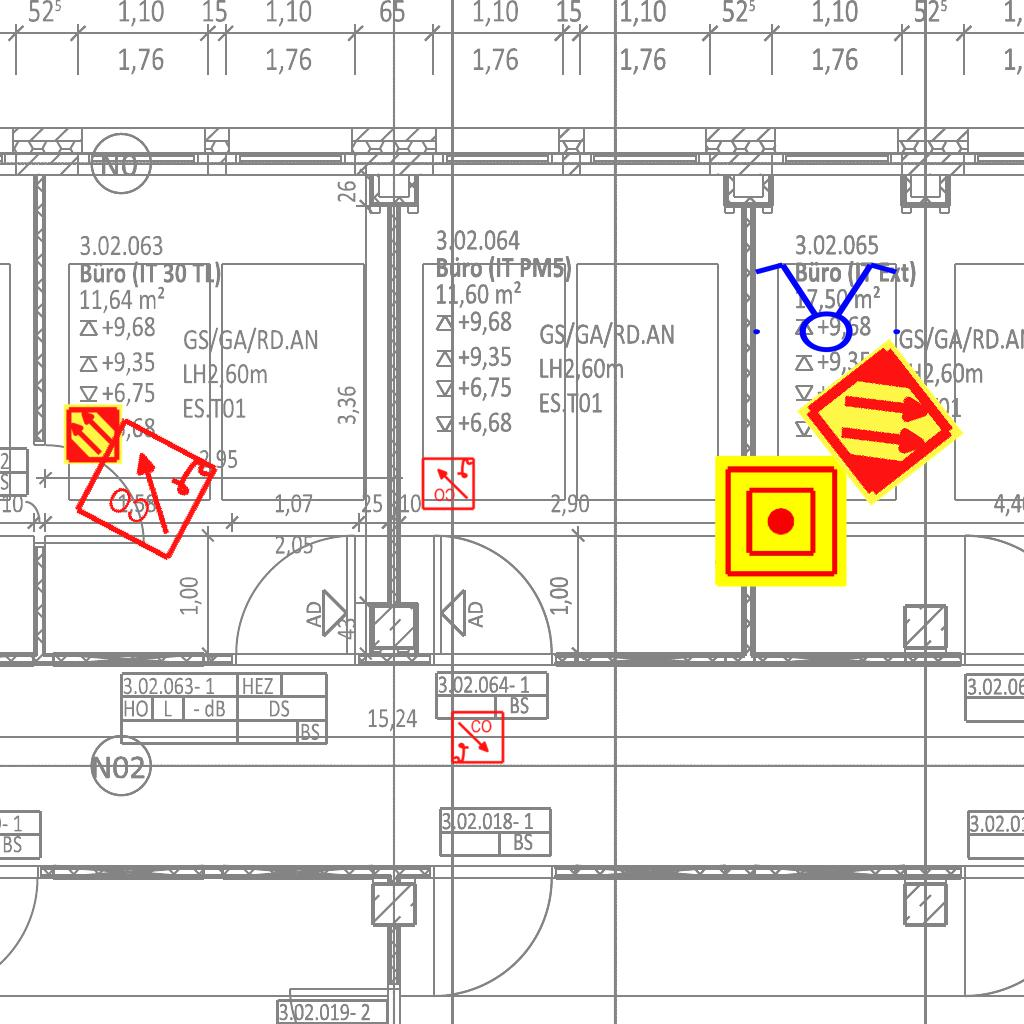ASR_Ansaugrauchmelder: (792, 334, 969, 511), (62, 403, 124, 465)
NAM-Nichtautomatischer_Melder: (715, 455, 847, 587)
ROA_Rauchmelder_optisch_mit_Signalgeber_(Sockelsirene): (70, 411, 223, 564), (420, 455, 476, 511), (450, 710, 506, 766)
Serienschalter: (741, 258, 909, 354)
